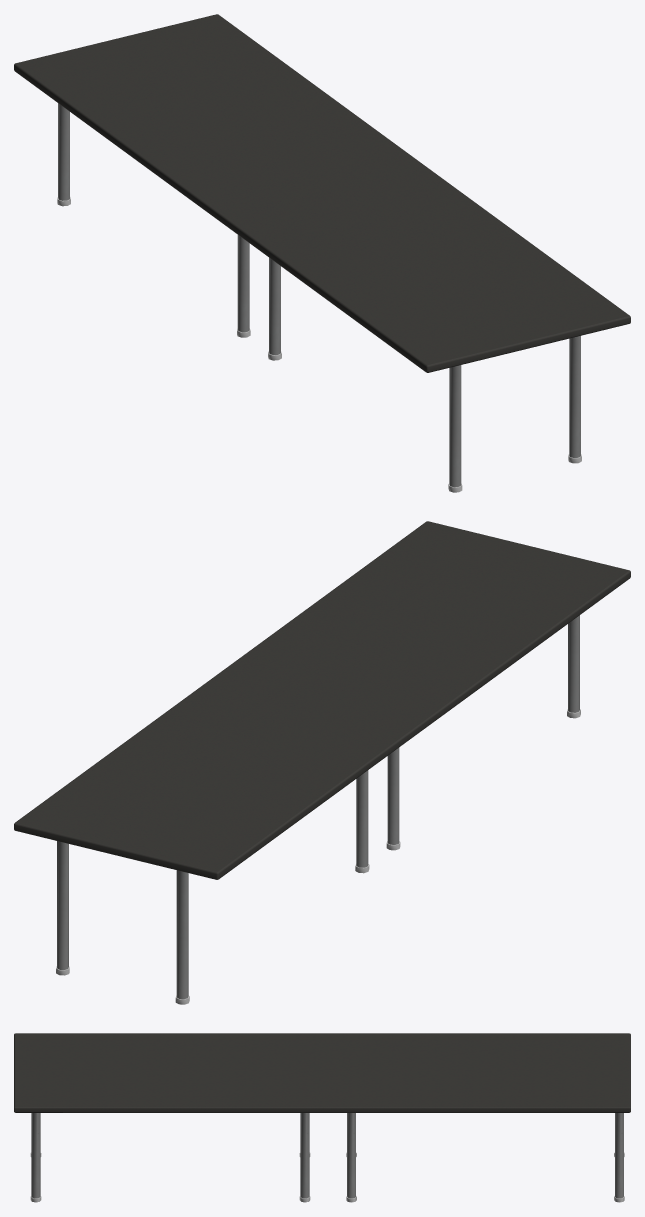
The model's file is OfficeDesk.fbx.
The picture shows the model from 3 angles, top to bottom: view 1: azimuth 30°, elevation 25°; view 2: azimuth 150°, elevation 25°; view 3: azimuth 270°, elevation 25°; orthographic projection. The views are drawn at different scales.
Visible parts, largest first — view 1: OfficeDesk_LOD0; view 2: OfficeDesk_LOD0; view 3: OfficeDesk_LOD0.
Boxes of the visible parts, x1,y1,x2,y2 form: OfficeDesk_LOD0: (14,14,630,492); OfficeDesk_LOD0: (14,521,630,1004); OfficeDesk_LOD0: (14,1033,630,1202).
Size of what is drawn, in the model's own units: 1.48 by 0.9984 by 5.16.
